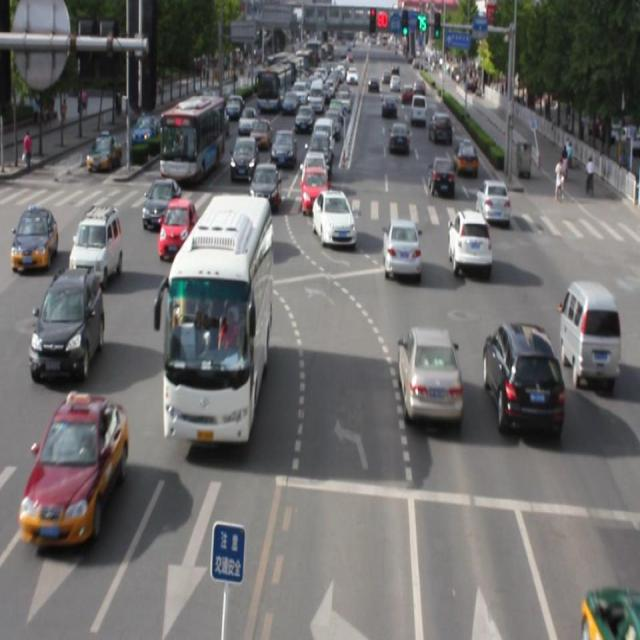car: (22, 392, 126, 550), (28, 266, 106, 382), (484, 321, 562, 436), (398, 325, 461, 423), (70, 207, 122, 282), (581, 585, 640, 640), (448, 209, 489, 273), (311, 196, 355, 253), (381, 219, 420, 278), (158, 199, 195, 260), (142, 181, 178, 229)
truck: (558, 280, 619, 386)
van: (162, 194, 270, 443)
